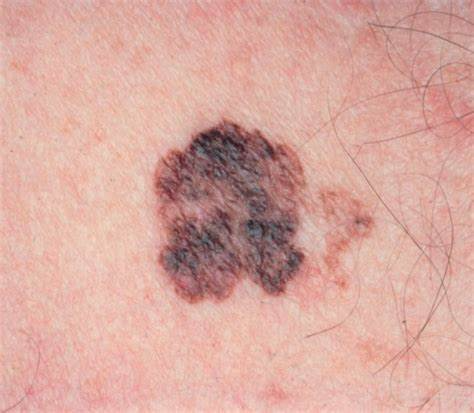Melanoma: (153, 121, 377, 305)
